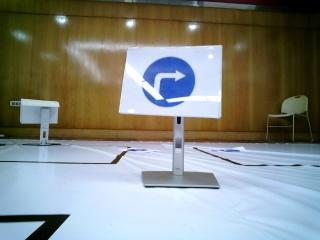right: (126, 46, 205, 110)
